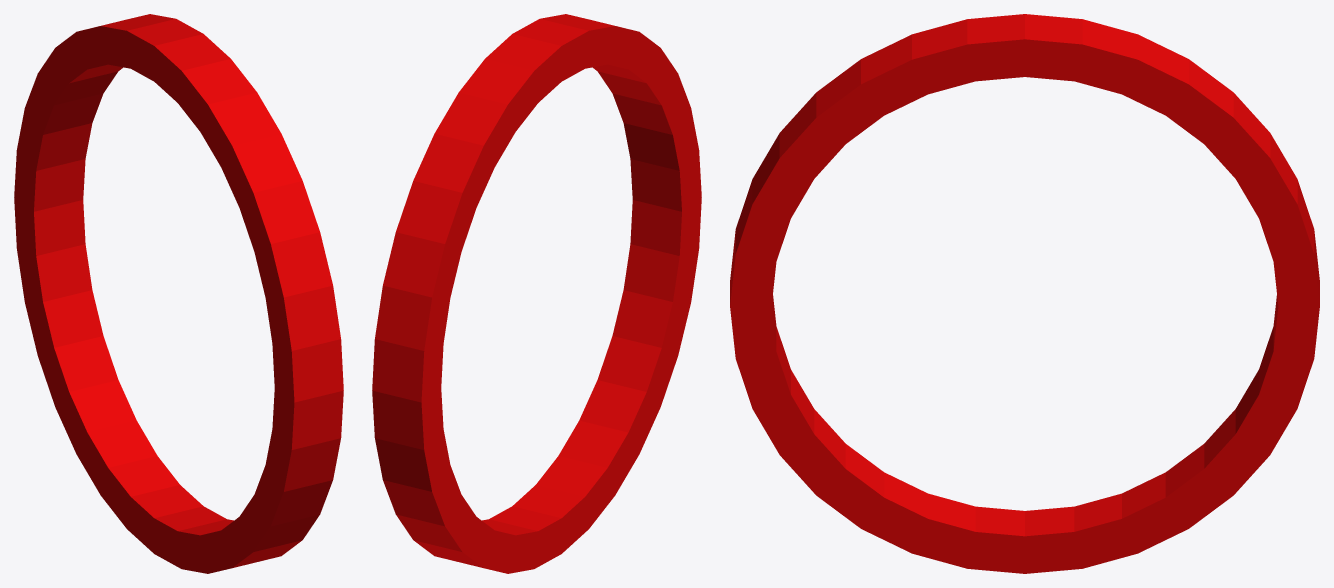
File: ring.glb
The picture shows the model from 3 angles, left to right: view 1: azimuth 30°, elevation 25°; view 2: azimuth 150°, elevation 25°; view 3: azimuth 270°, elevation 25°; orthographic projection. The views are drawn at different scales.
Parts seen in each view (by area): view 1: Ring; view 2: Ring; view 3: Ring.
Boxes of the visible parts, x1,y1,x2,y2 form: Ring: [14, 14, 343, 573]; Ring: [372, 14, 701, 573]; Ring: [730, 14, 1319, 573].
Bounding box in the file's own units: 0.2033 × 2 × 2.
